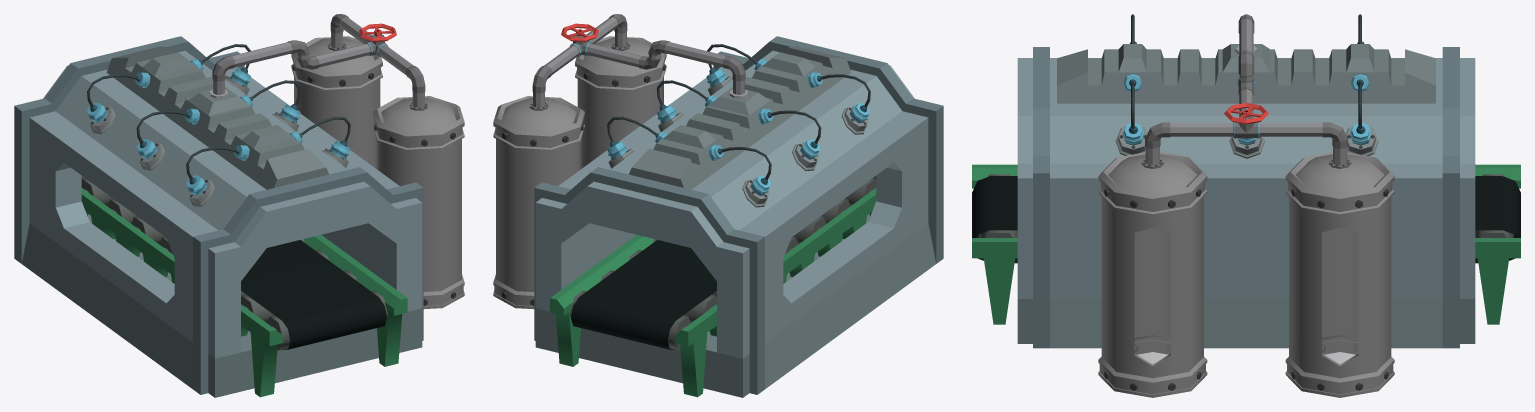
The model's file is TestMesh_baked.fbx.
3 views of the same model, side by side, from view 1: azimuth 30°, elevation 25°; view 2: azimuth 150°, elevation 25°; view 3: azimuth 270°, elevation 25° (orthographic). The views are drawn at different scales.
Visible parts, largest first — view 1: TestMesh; view 2: TestMesh; view 3: TestMesh.
Part boxes in pixels (x1,y1,x2,y2): TestMesh: (14, 14, 464, 397); TestMesh: (493, 14, 943, 397); TestMesh: (972, 14, 1520, 397).
Size of the model in its own units: 18.03 by 13.31 by 24.
